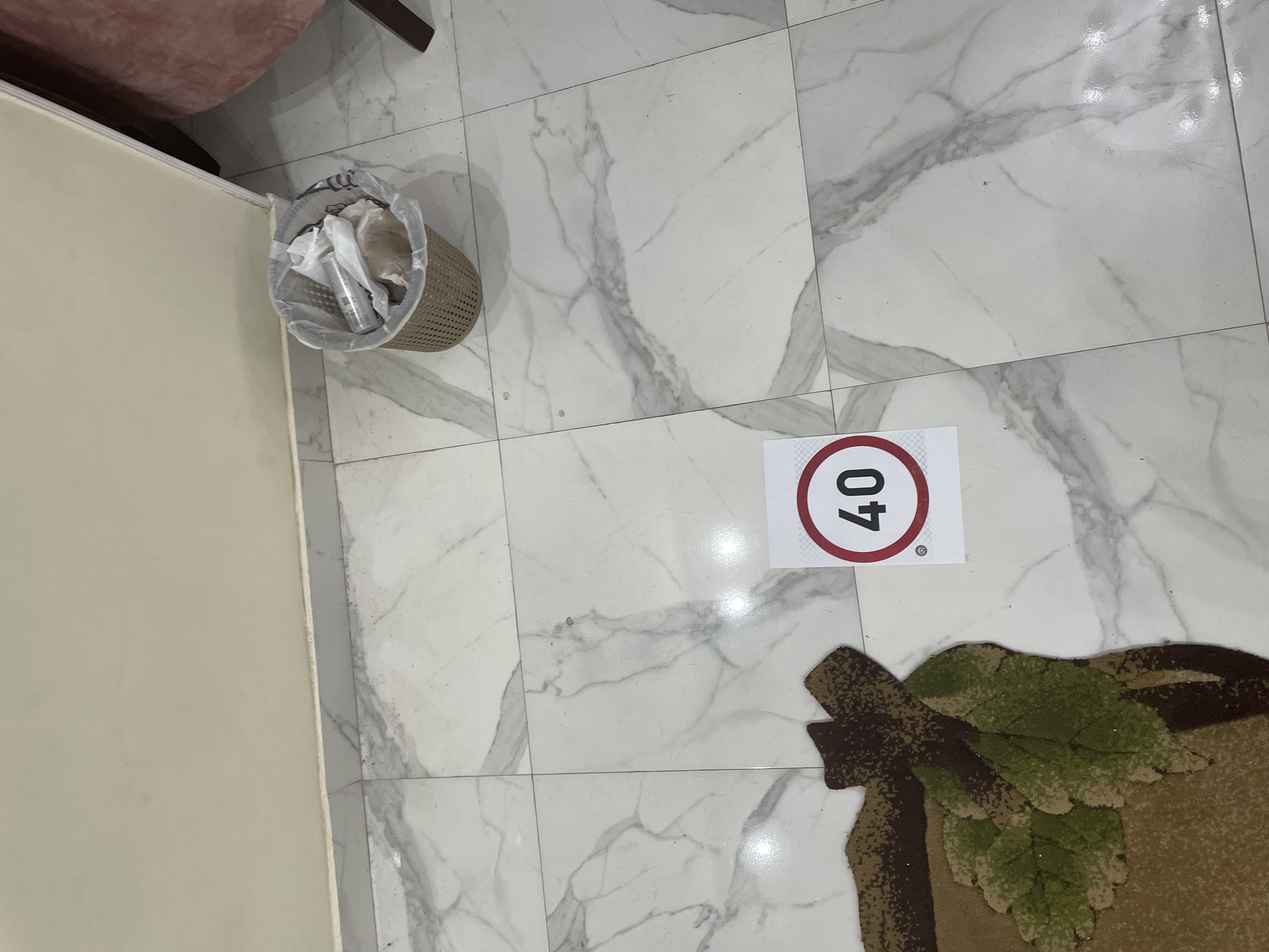40-Speed: (518, 594, 693, 701)
